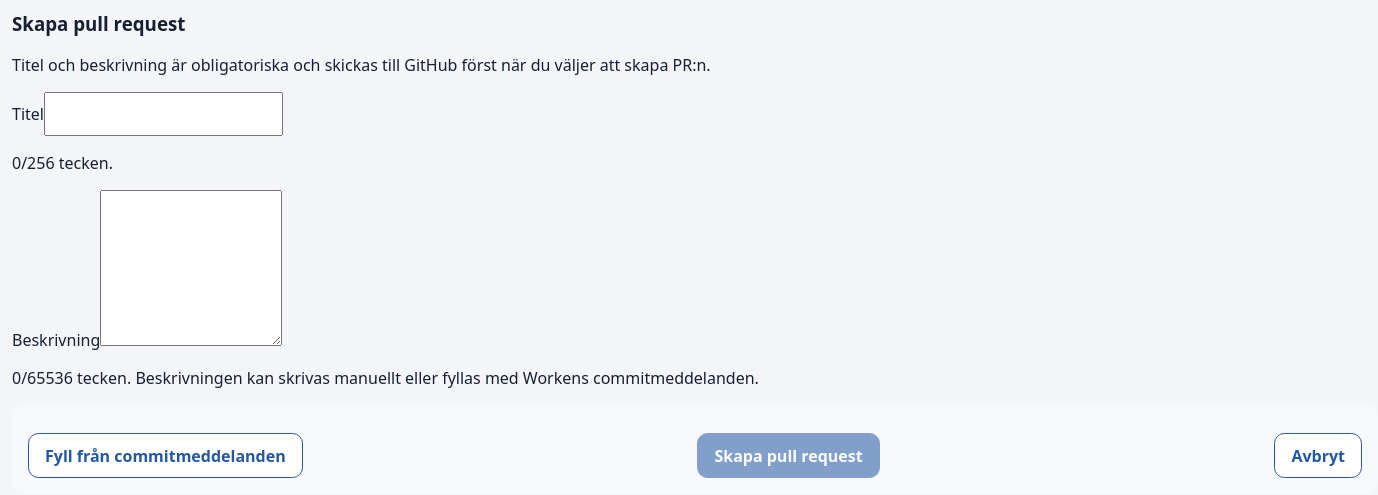
Test: fills a plain chronological commit list and uses the first commit subject as an empty PR title
Click the button "Fyll från commitmeddelanden": (165, 456) [28, 433, 303, 478]
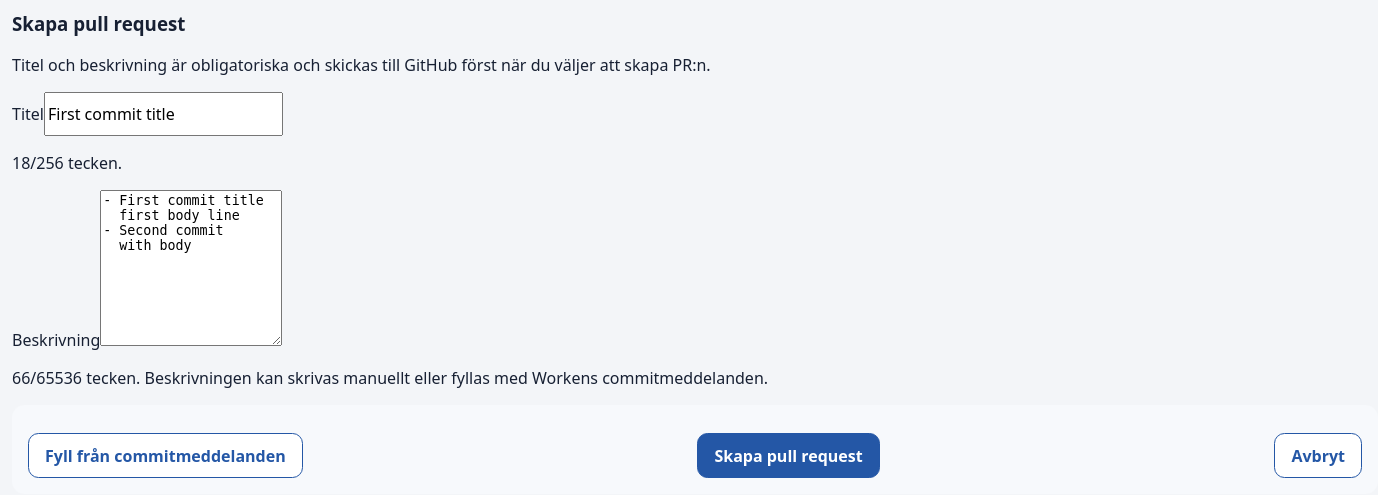
Now the field labelled "Titel" holds "First commit title", box [44, 92, 283, 136]
